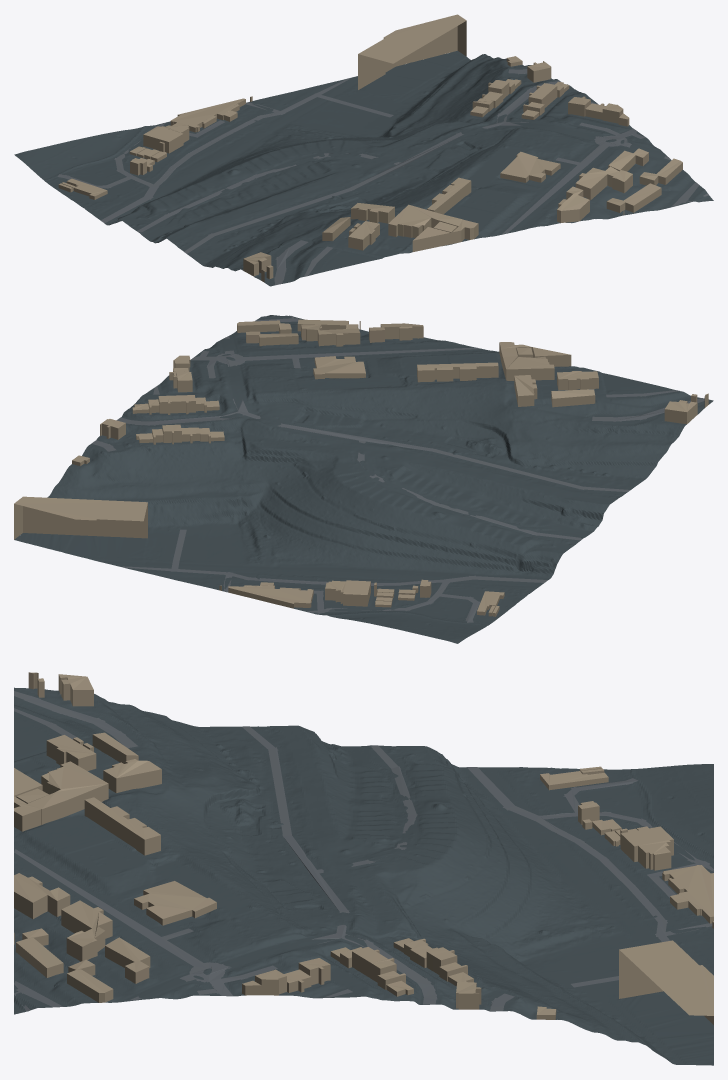
Rendered from epsg26910-1445-10874.lod0.glb.
3 views of the same model, one above another, from view 1: azimuth 30°, elevation 25°; view 2: azimuth 150°, elevation 25°; view 3: azimuth 270°, elevation 25° (orthographic). The views are drawn at different scales.
Parts seen in each view (by area): view 1: epsg26910-1445-10874-lod0; view 2: epsg26910-1445-10874-lod0; view 3: epsg26910-1445-10874-lod0.
Boxes of the visible parts, bbox=[...] form: epsg26910-1445-10874-lod0: bbox=[14, 14, 713, 286]; epsg26910-1445-10874-lod0: bbox=[14, 315, 713, 643]; epsg26910-1445-10874-lod0: bbox=[14, 672, 713, 1065].
Size of the model in its own units: 384 by 62.41 by 384.
